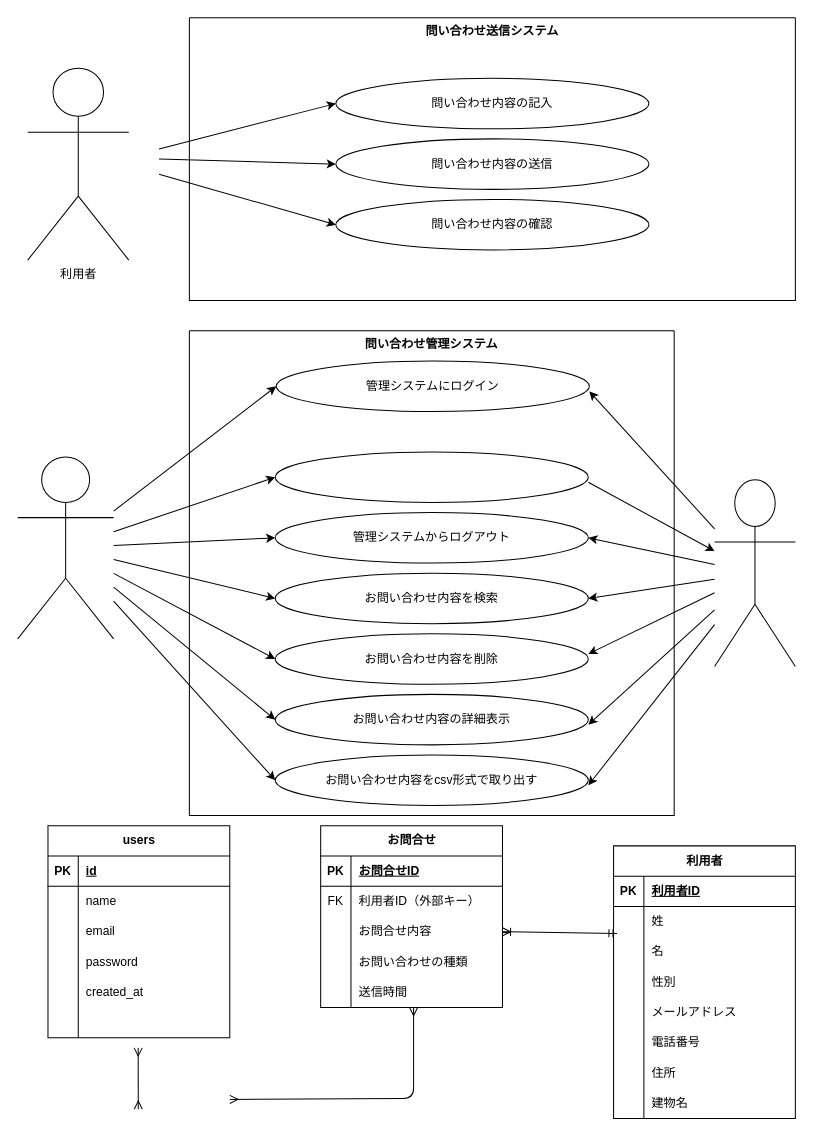
This 813x1136 diagram has some shape labels left out. Here are the shapes that lost their labels. From the top down, the centre of each, then its label:
the point at 431,476: 新規ユーザーの作成・登録
the point at 65,547: 管理者
the point at 754,573: 新規管理者
